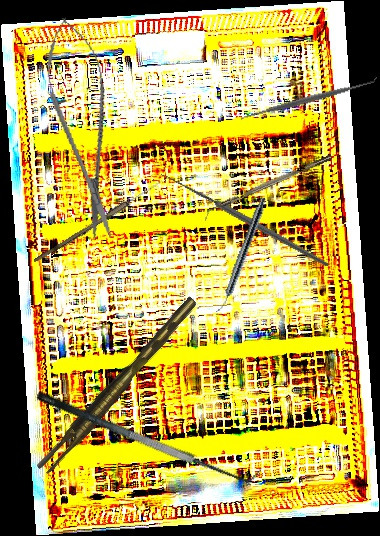Chopper: (200, 154, 336, 221)
Handpiece: (215, 195, 268, 316)
Hook Surgical: (151, 123, 331, 321)
Micro Scissor: (35, 12, 132, 245)
Spatula Surgical: (35, 372, 262, 496), (238, 72, 380, 126)
Surgical Spoon: (33, 177, 164, 266)
Tissue Forceps: (30, 296, 207, 477)
